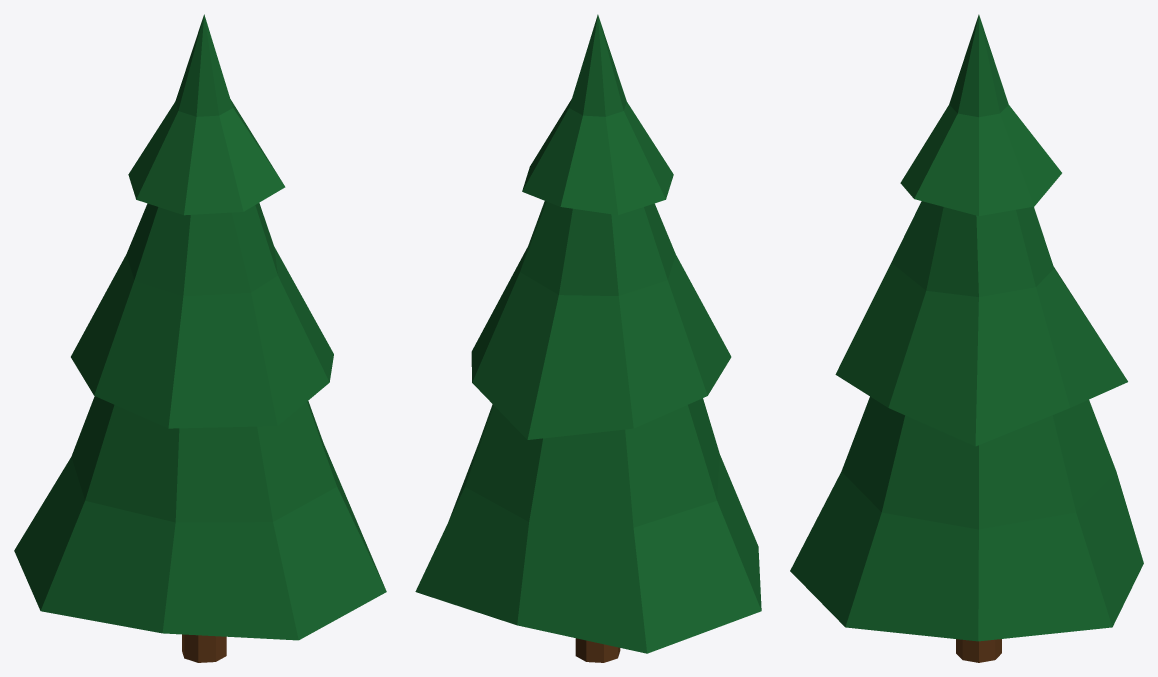
File: spruce.fbx
3 renders of one model, left to right at view 1: azimuth 30°, elevation 25°; view 2: azimuth 150°, elevation 25°; view 3: azimuth 270°, elevation 25°, orthographic.
Visible parts, largest first — view 1: spruce; view 2: spruce; view 3: spruce.
Part boxes in pixels (bbox=[...]): spruce: bbox=[14, 14, 386, 662]; spruce: bbox=[415, 14, 761, 662]; spruce: bbox=[790, 14, 1143, 662].
Size of the model in its own units: 257 by 495 by 249.
Materials: 1 (1 with a texture image).
